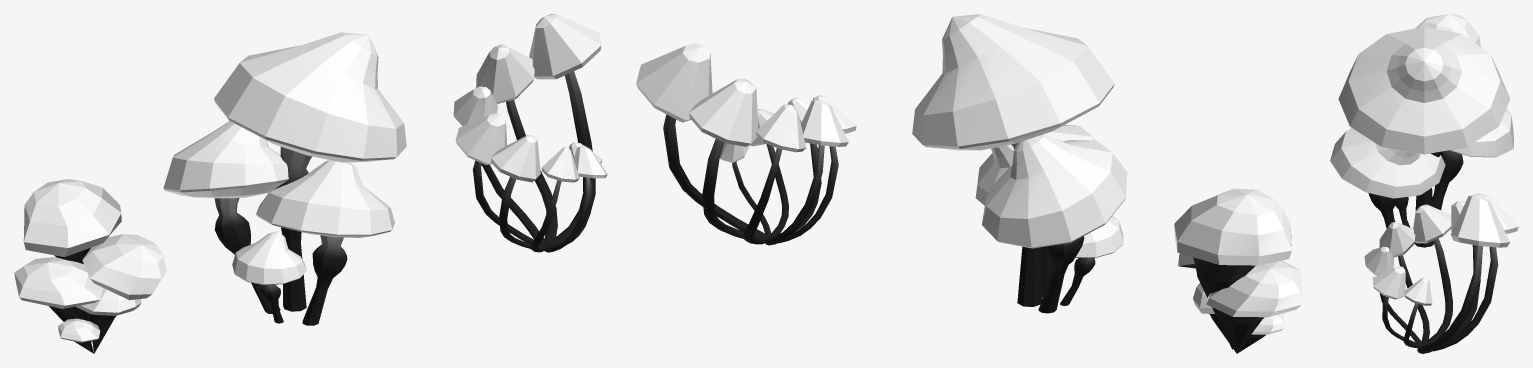
The model's file is gruppo_funghi_a.fbx.
The picture shows the model from 3 angles, left to right: view 1: azimuth 30°, elevation 25°; view 2: azimuth 150°, elevation 25°; view 3: azimuth 270°, elevation 25°; orthographic projection. The views are drawn at different scales.
Parts seen in each view (by area): view 1: fungo_c1, polySurface31, fungo_a2; view 2: fungo_c1, polySurface31, fungo_a2; view 3: fungo_c1, polySurface31, fungo_a2.
Part boxes in pixels (x1=…): fungo_c1: x1=163, y1=32, x2=406, y2=325; polySurface31: x1=453, y1=14, x2=607, y2=252; fungo_a2: x1=14, y1=179, x2=166, y2=353; fungo_c1: x1=912, y1=14, x2=1127, y2=313; polySurface31: x1=636, y1=43, x2=856, y2=245; fungo_a2: x1=1174, y1=188, x2=1301, y2=353; fungo_c1: x1=1330, y1=27, x2=1513, y2=247; polySurface31: x1=1364, y1=193, x2=1518, y2=353; fungo_a2: x1=1415, y1=14, x2=1480, y2=46.
Bounding box in the file's own units: 8.53 × 3.55 × 2.76.
